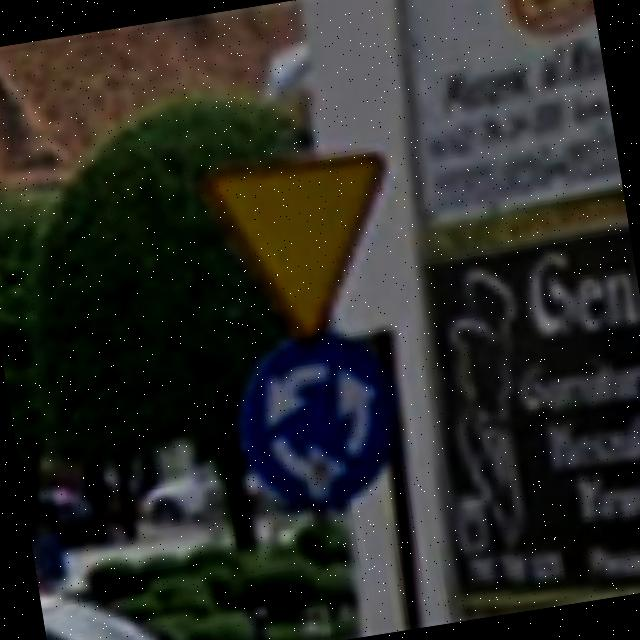Ustap pierwszenstwa: (200, 142, 416, 358)
